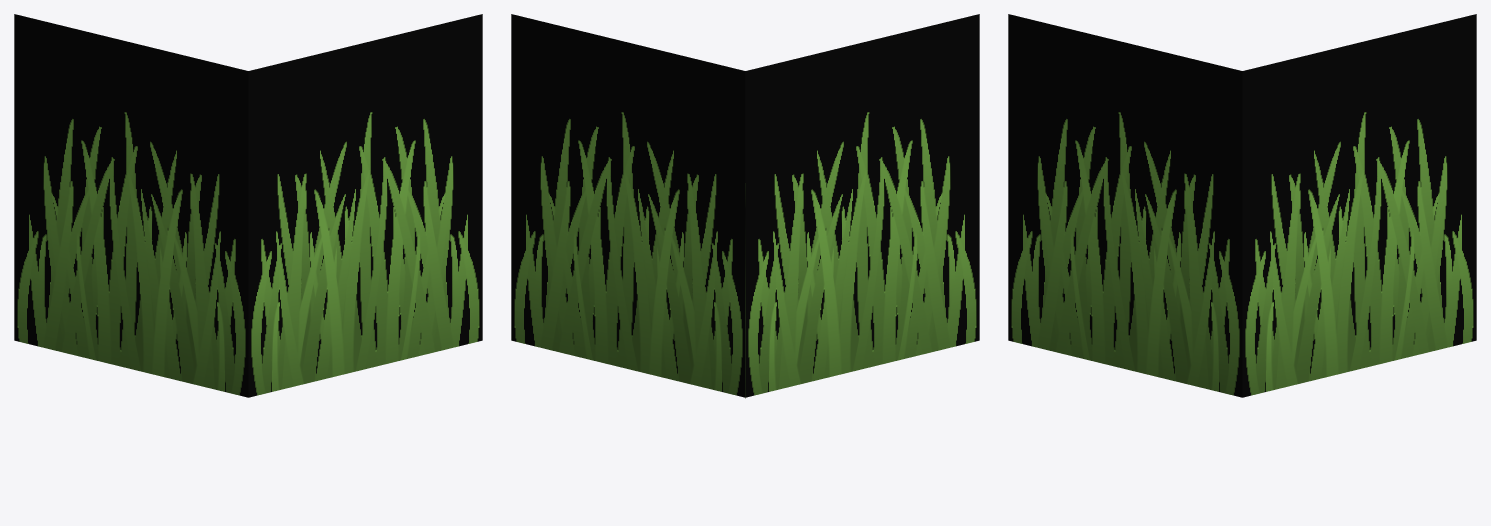
The model's file is sn-stylised-grass.glb.
3 renders of one model, left to right at view 1: azimuth 30°, elevation 25°; view 2: azimuth 150°, elevation 25°; view 3: azimuth 270°, elevation 25°, orthographic.
Visible parts, largest first — view 1: StylisedGrass; view 2: StylisedGrass; view 3: StylisedGrass.
Part boxes in pixels (x1,y1,x2,y2): StylisedGrass: (14, 14, 482, 397); StylisedGrass: (511, 14, 979, 398); StylisedGrass: (1008, 14, 1476, 397).
Bounding box in the file's own units: 1.14 × 1.01 × 1.31.
1 material, 1 textured.
